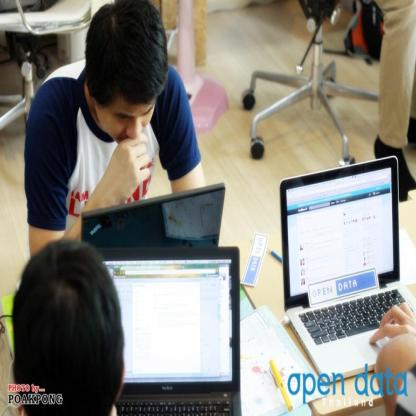board: (279, 166, 413, 377), (91, 246, 241, 416), (81, 184, 225, 246)
